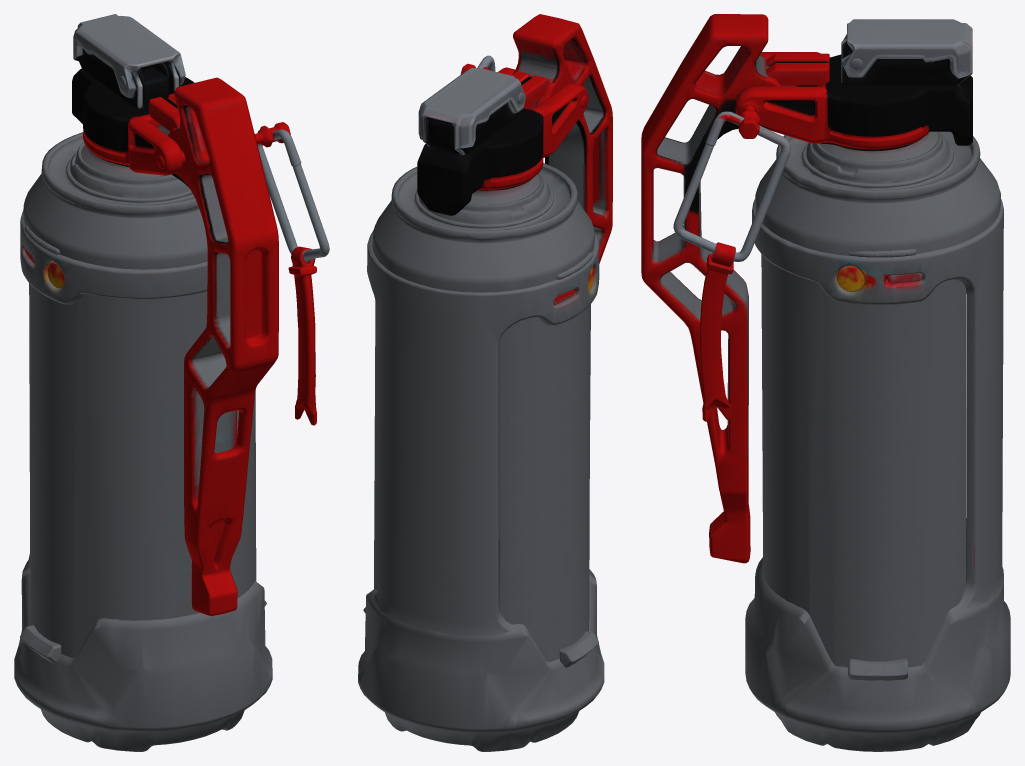
File: energy-canister.glb
3 renders of one model, left to right at view 1: azimuth 30°, elevation 25°; view 2: azimuth 150°, elevation 25°; view 3: azimuth 270°, elevation 25°, orthographic. The views are drawn at different scales.
Parts seen in each view (by area): view 1: tripo_node_934d76ea-4634-4963-9211-cb520; view 2: tripo_node_934d76ea-4634-4963-9211-cb520; view 3: tripo_node_934d76ea-4634-4963-9211-cb520.
Boxes of the visible parts, left/top/right/bottom form: tripo_node_934d76ea-4634-4963-9211-cb520: left=14, top=14, right=329, bottom=751; tripo_node_934d76ea-4634-4963-9211-cb520: left=358, top=14, right=612, bottom=751; tripo_node_934d76ea-4634-4963-9211-cb520: left=641, top=14, right=1010, bottom=751.
Bounding box in the file's own units: 0.3503 × 1 × 0.4871.
Materials: 1 (1 with a texture image).
